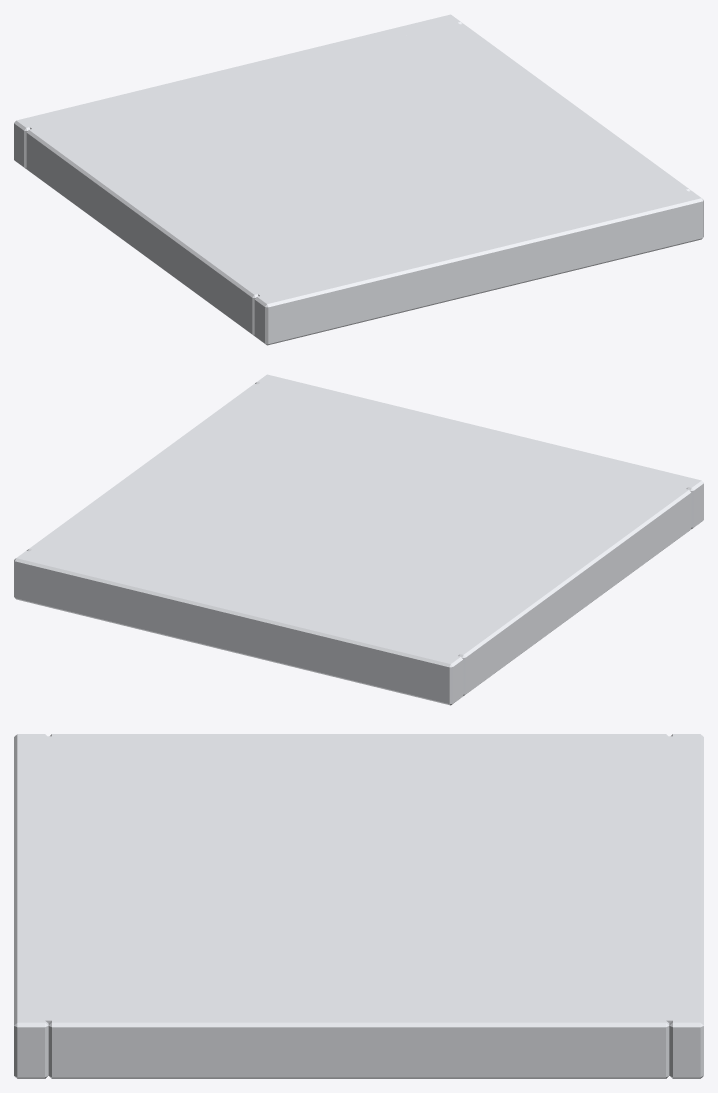
File: lampu_panel.fbx
The picture shows the model from 3 angles, top to bottom: view 1: azimuth 30°, elevation 25°; view 2: azimuth 150°, elevation 25°; view 3: azimuth 270°, elevation 25°; orthographic projection. The views are drawn at different scales.
Parts seen in each view (by area): view 1: lampu_panel; view 2: lampu_panel; view 3: lampu_panel.
Part boxes in pixels (x1,y1,x2,y2): lampu_panel: [14, 14, 703, 345]; lampu_panel: [14, 374, 703, 705]; lampu_panel: [14, 734, 703, 1078].
Bounding box in the file's own units: 400 × 36 × 400.
Materials: 1 (1 with a texture image).
